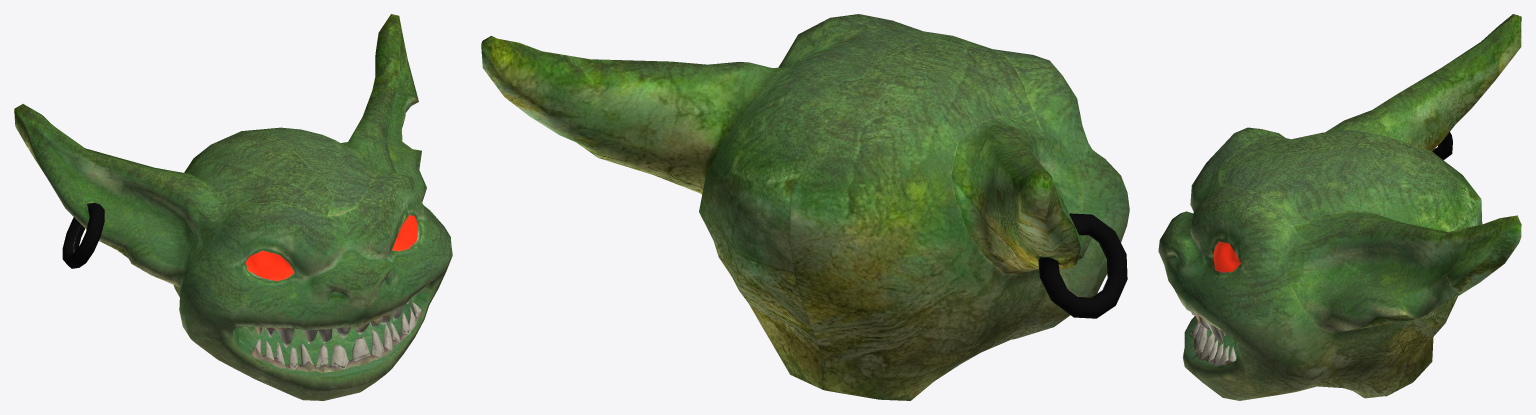
File: goblin.glb
The picture shows the model from 3 angles, left to right: view 1: azimuth 30°, elevation 25°; view 2: azimuth 150°, elevation 25°; view 3: azimuth 270°, elevation 25°; orthographic projection. The views are drawn at different scales.
Visible parts, largest first — view 1: Head; view 2: Head; view 3: Head.
Part boxes in pixels (x1,y1,x2,y2): Head: [14, 14, 452, 400]; Head: [481, 14, 1129, 400]; Head: [1158, 14, 1521, 400].
Size of the model in its own units: 246 by 149 by 180.
2 materials, 2 textured.
